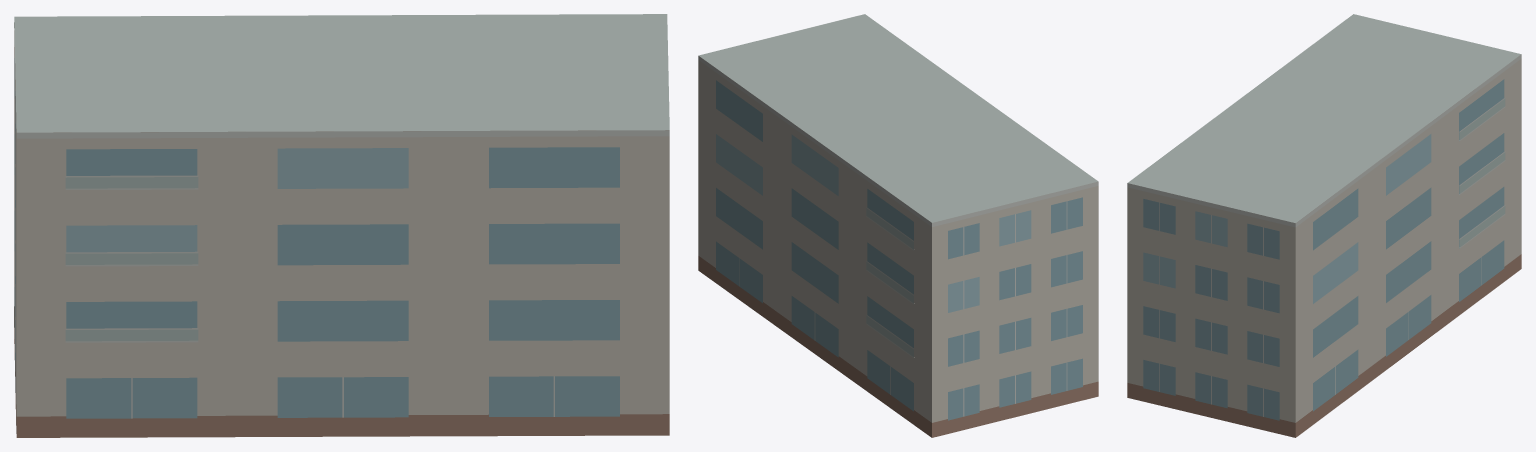
The model's file is residential-a808911c-aa6b-48e1-a1a7-948565bba2f0.glb.
3 renders of one model, left to right at view 1: azimuth 30°, elevation 25°; view 2: azimuth 150°, elevation 25°; view 3: azimuth 270°, elevation 25°, orthographic. The views are drawn at different scales.
Parts seen in each view (by area): view 1: residential-a808911c-aa6b-48e1-a1a7-948565bba2f0.tmp; view 2: residential-a808911c-aa6b-48e1-a1a7-948565bba2f0.tmp; view 3: residential-a808911c-aa6b-48e1-a1a7-948565bba2f0.tmp.
Part boxes in pixels (left/top/right/bottom): residential-a808911c-aa6b-48e1-a1a7-948565bba2f0.tmp: left=14, top=14, right=669, bottom=437; residential-a808911c-aa6b-48e1-a1a7-948565bba2f0.tmp: left=698, top=14, right=1098, bottom=437; residential-a808911c-aa6b-48e1-a1a7-948565bba2f0.tmp: left=1127, top=14, right=1521, bottom=437.
Size of the model in its own units: 25.5 by 12.2 by 20.3.
